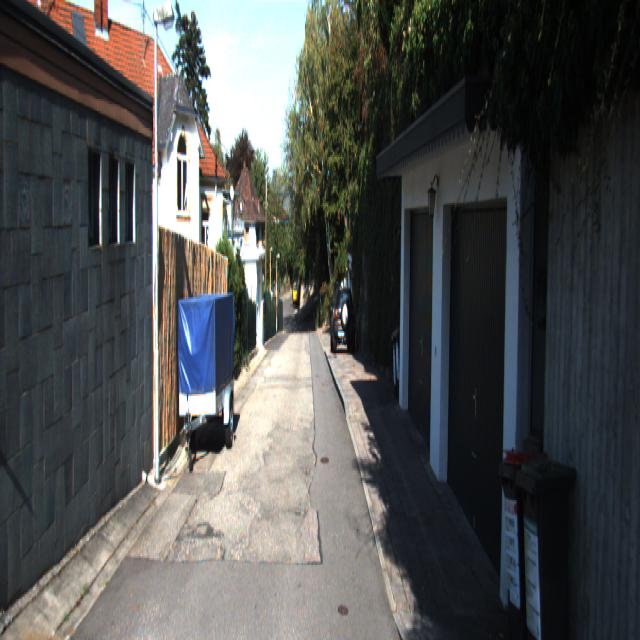Car: (178, 292, 235, 468), (330, 286, 356, 356)
